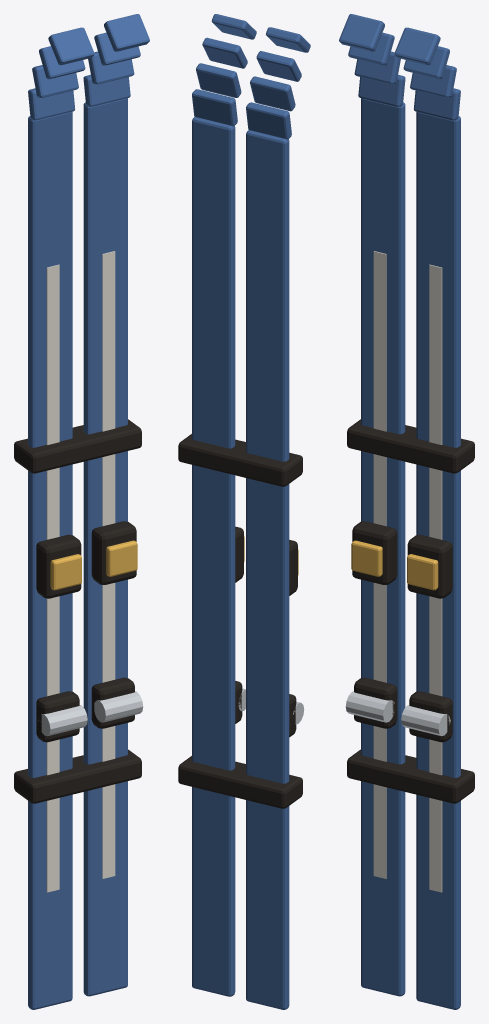
Rendered from hh_cat_skis.glb.
3 renders of one model, left to right at view 1: azimuth 30°, elevation 25°; view 2: azimuth 150°, elevation 25°; view 3: azimuth 330°, elevation 25°, orthographic. The views are drawn at different scales.
Visible parts, largest first — view 1: ski, ski.001, stripe.001, stripe, strap, strap.001, binding.002, binding, ski_tip.003, ski_tip.007, binding.001, binding.003 (+10 smaller); view 2: ski, ski.001, strap, strap.001, ski_tip, ski_tip.004, ski_tip.001, ski_tip.005, ski_tip.006, ski_tip.002, ski_tip.003, ski_tip.007 (+2 smaller); view 3: ski.001, ski, stripe, stripe.001, strap, strap.001, binding, binding.002, ski_tip.003, ski_tip.007, binding.003, binding.001 (+10 smaller).
Part boxes in pixels (<box>): ski: <box>28,112,72,1009</box>; ski.001: <box>83,98,127,996</box>; stripe.001: <box>102,251,115,878</box>; stripe: <box>46,264,59,892</box>; strap: <box>14,749,141,803</box>; strap.001: <box>14,419,141,473</box>; binding.002: <box>91,521,136,584</box>; binding: <box>36,534,81,598</box>; ski_tip.003: <box>48,27,94,65</box>; ski_tip.007: <box>104,14,149,51</box>; binding.001: <box>36,691,79,742</box>; binding.003: <box>91,677,134,728</box>; ski: <box>246,130,289,1009</box>; ski.001: <box>192,117,235,996</box>; strap: <box>178,756,302,808</box>; strap.001: <box>178,434,302,486</box>; ski_tip: <box>246,102,291,139</box>; ski_tip.004: <box>192,89,237,126</box>; ski_tip.001: <box>250,76,295,111</box>; ski_tip.005: <box>196,63,241,97</box>; ski_tip.006: <box>202,37,247,68</box>; ski_tip.002: <box>256,51,301,81</box>; ski_tip.003: <box>266,27,310,52</box>; ski_tip.007: <box>211,14,256,39</box>; ski.001: <box>416,112,460,1009</box>; ski: <box>361,98,405,996</box>; stripe: <box>373,251,386,878</box>; stripe.001: <box>429,264,442,892</box>; strap: <box>347,749,474,803</box>; strap.001: <box>347,419,474,473</box>; binding: <box>352,521,397,584</box>; binding.002: <box>407,534,452,598</box>; ski_tip.003: <box>339,14,384,51</box>; ski_tip.007: <box>394,27,440,65</box>; binding.003: <box>409,691,452,742</box>; binding.001: <box>354,677,397,728</box>.
Size of the model in its own units: 0.2 by 1.7 by 0.12.
